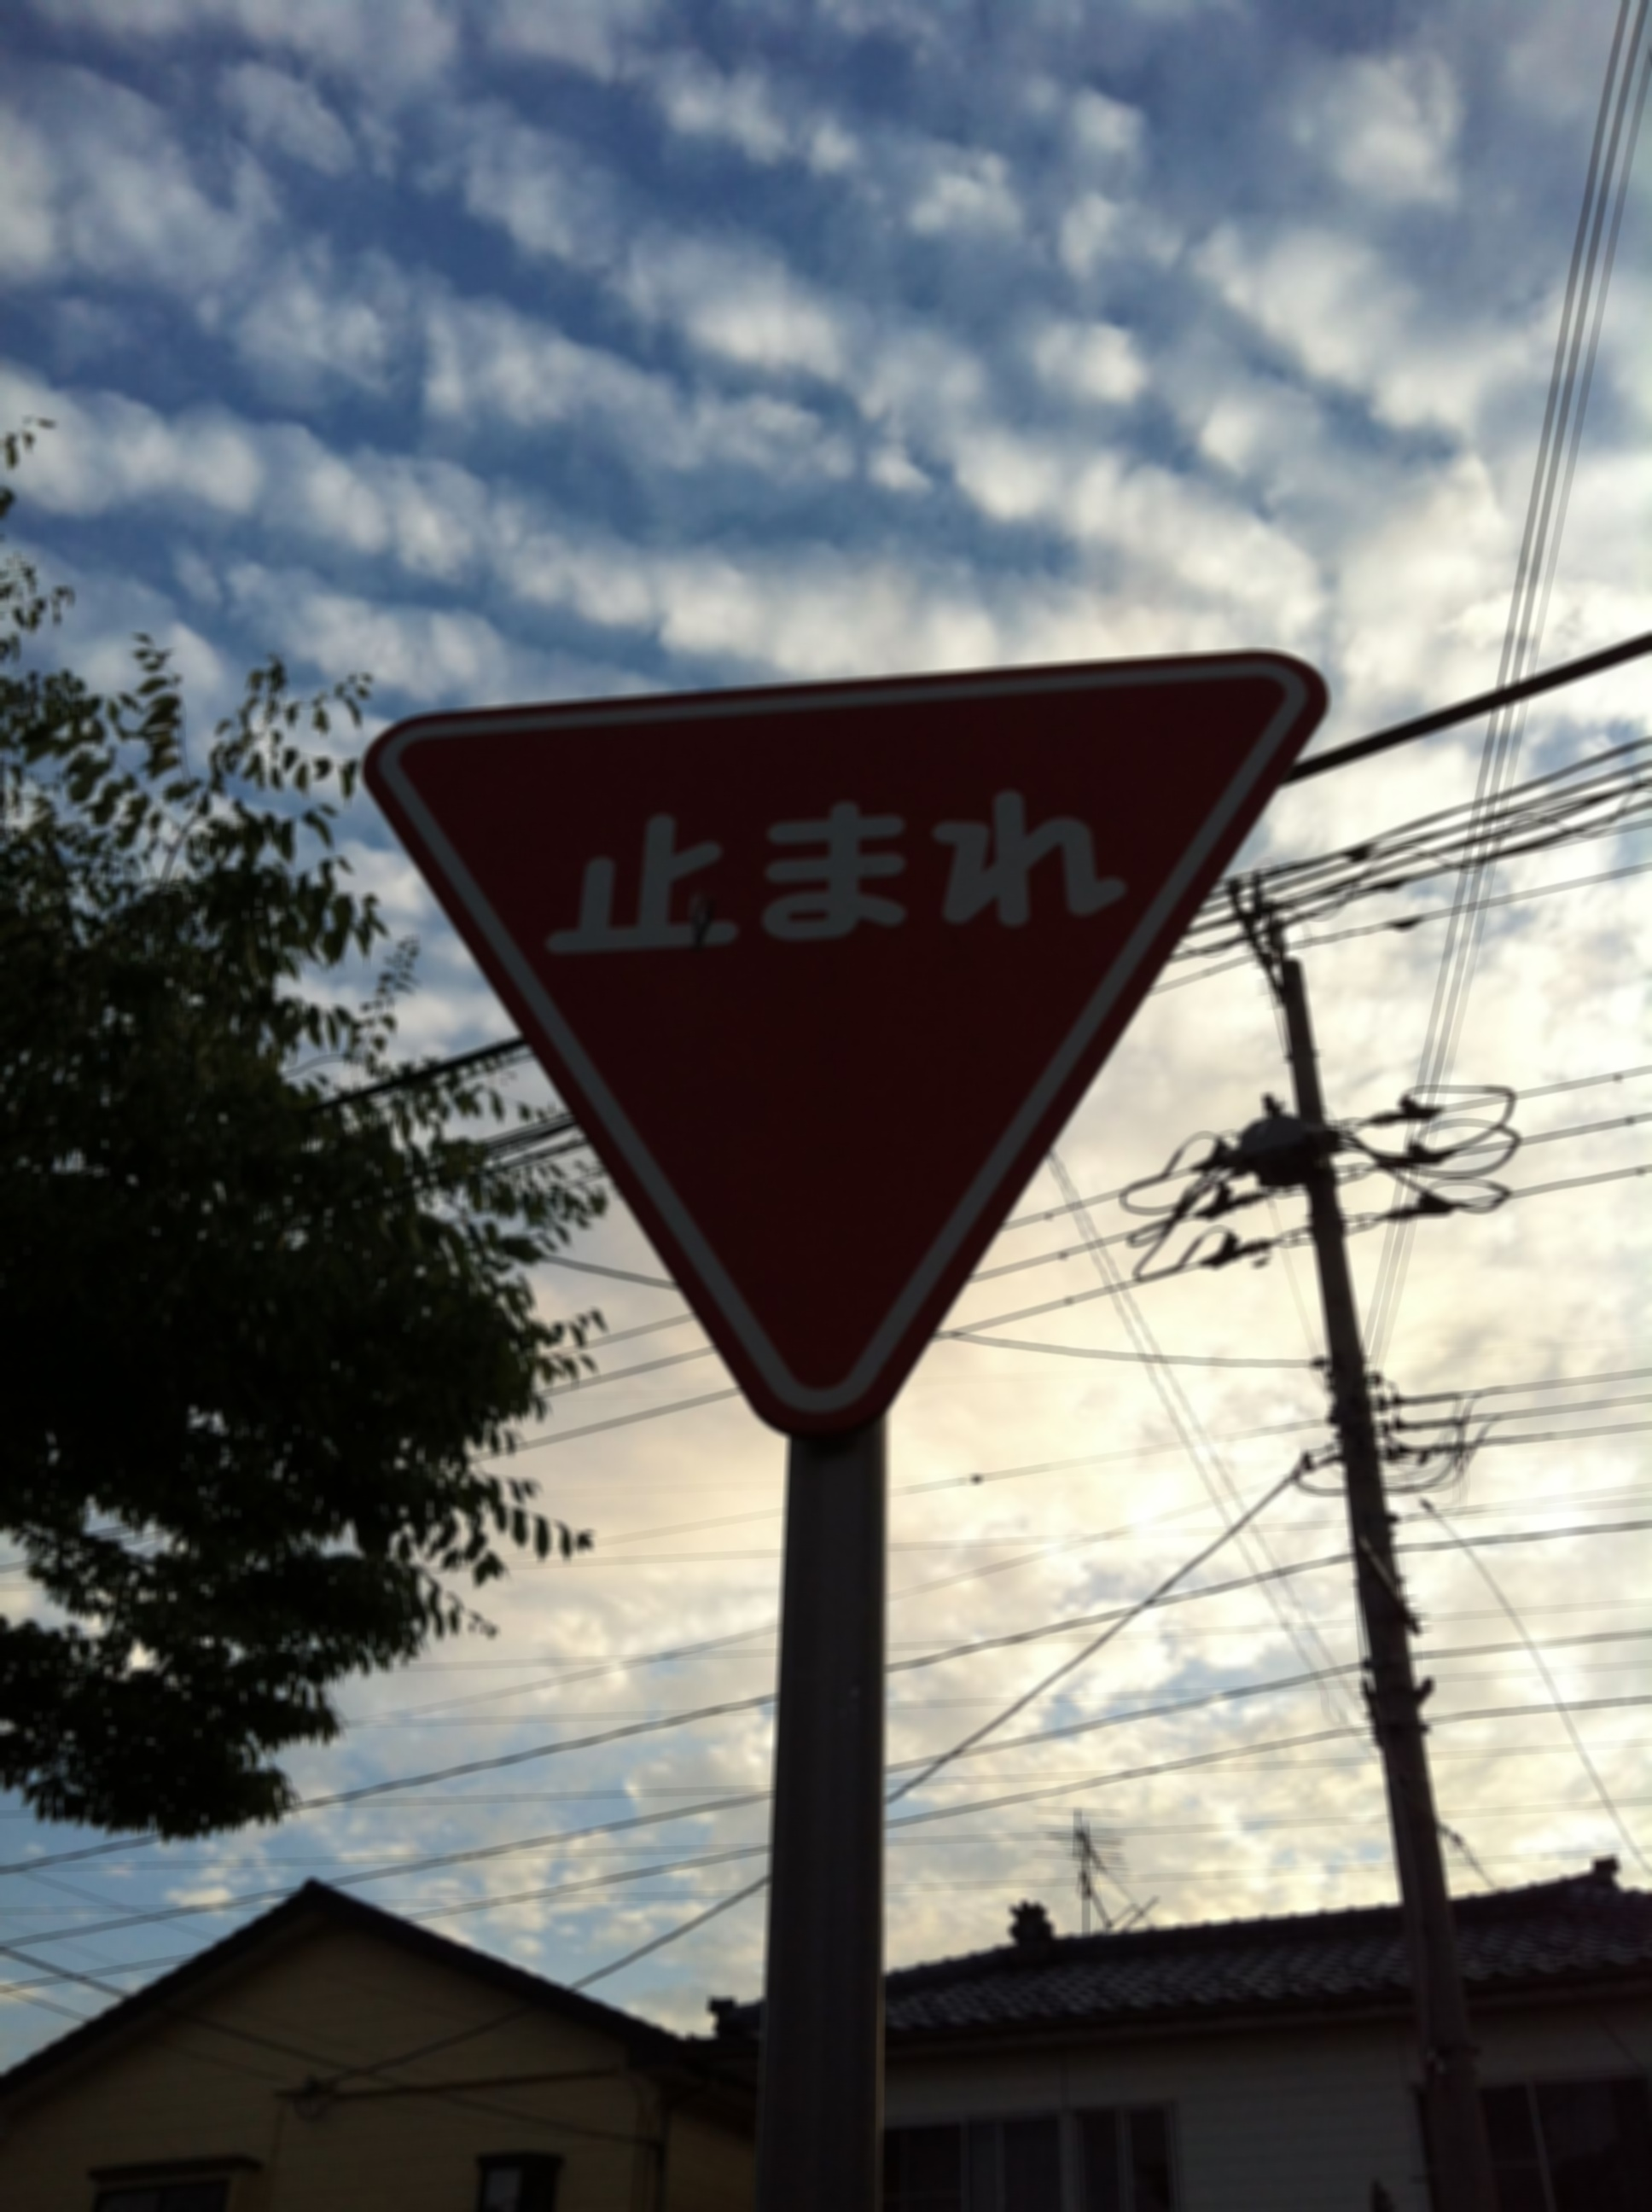Regulatory_sign_triangle: (295, 609, 1373, 1428)
